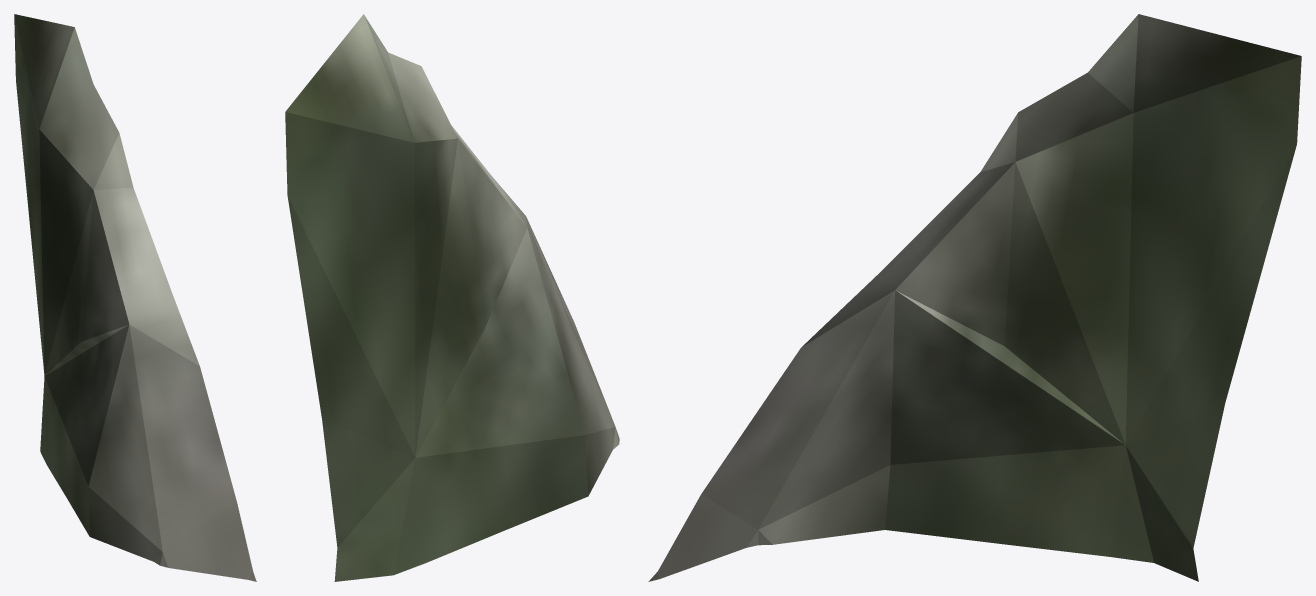
The picture shows the model from 3 angles, left to right: view 1: azimuth 30°, elevation 25°; view 2: azimuth 150°, elevation 25°; view 3: azimuth 270°, elevation 25°; orthographic projection. The views are drawn at different scales.
Bounding box in the file's own units: 0.0733 × 0.3732 × 0.3892.
1 material, 1 textured.
